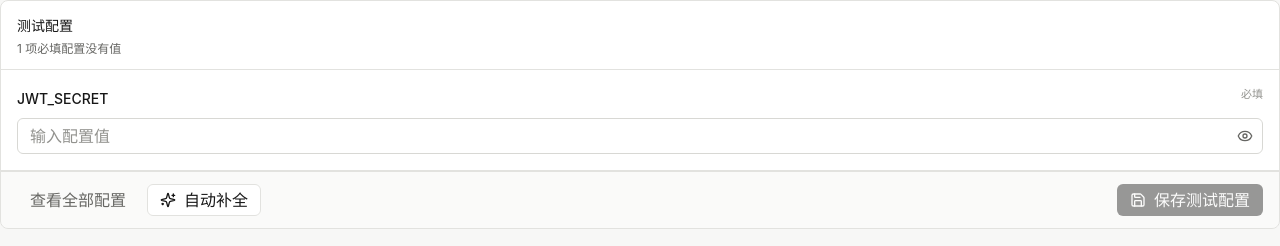
Test: parseEnvFields › lets the client generate internal secrets before asking for external services
Click the button "自动补全" at point(204, 200), box 147,184 -> 261,216
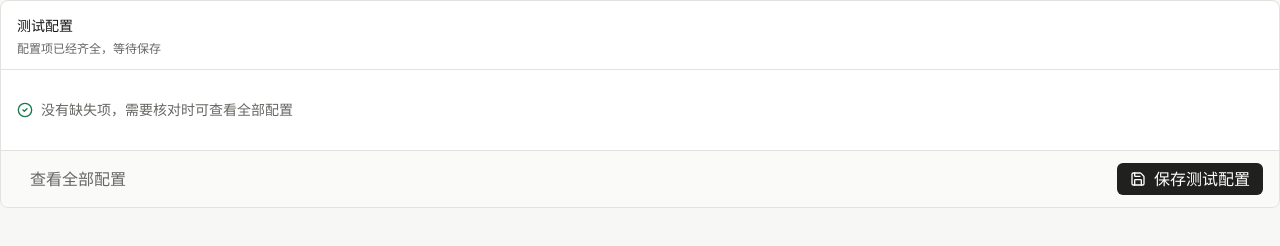
Now the button "保存测试配置" is enabled, box 1117,163 -> 1263,195
Now the button "自动补全" is gone
